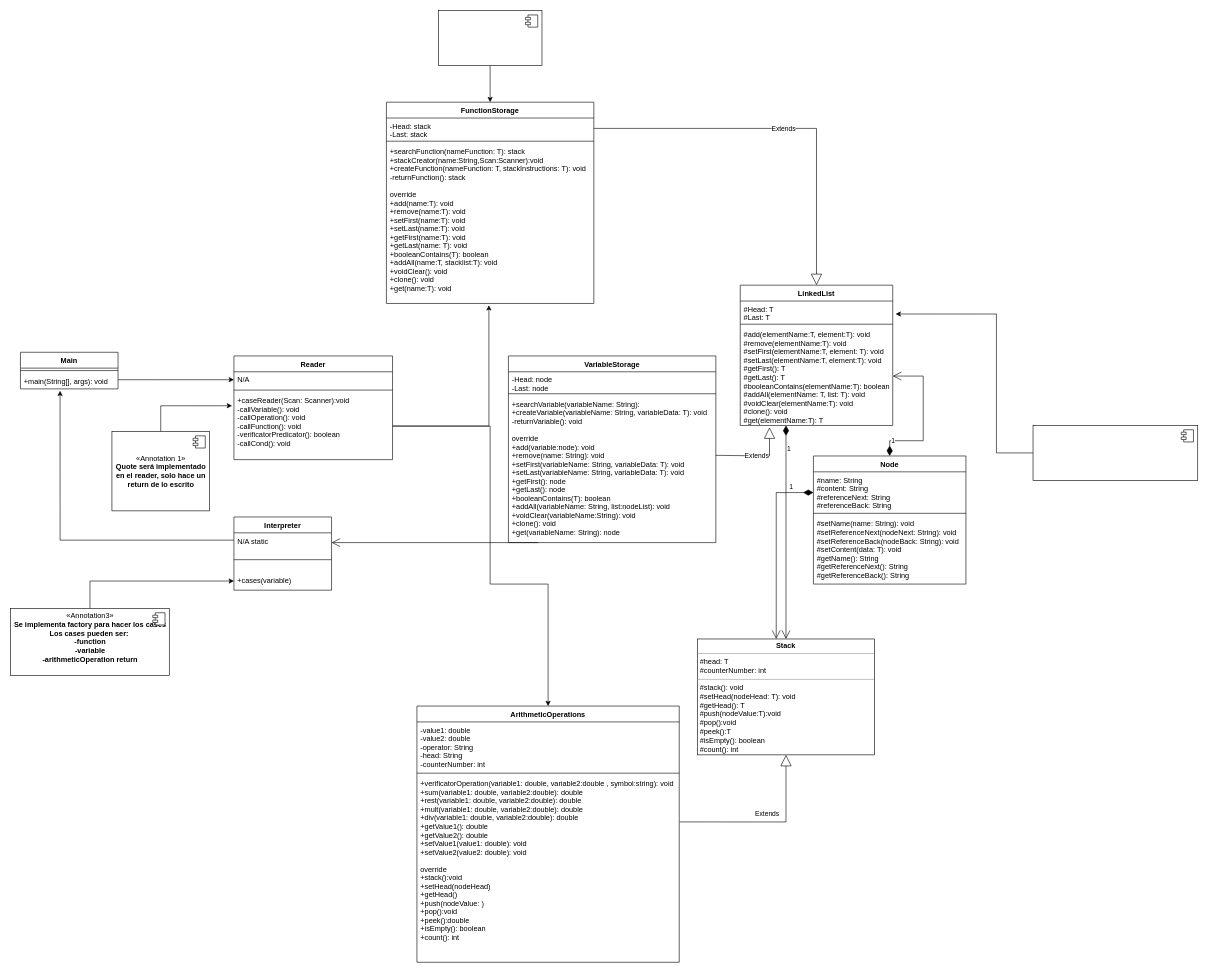
Image size: 1208x975. Some labels were removed from this diagram. The shapes that lost their labels are listed below. From the top down, each one's centre as x and y in pixels, then its label:
At pixel 490 38: "«Annotation» Será una lista de stacks, con index del nombre de la función".
At pixel 1115 452: "«Annotation2» El index en realidad sería el name del nodo".
